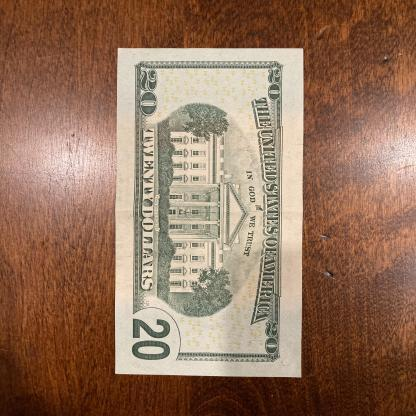twenty-back: (113, 47, 305, 379)
